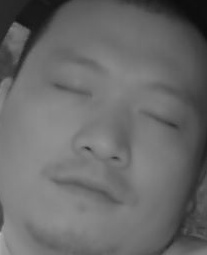blink: (141, 107, 180, 131), (52, 80, 91, 103)
mouth: (46, 169, 117, 209)
